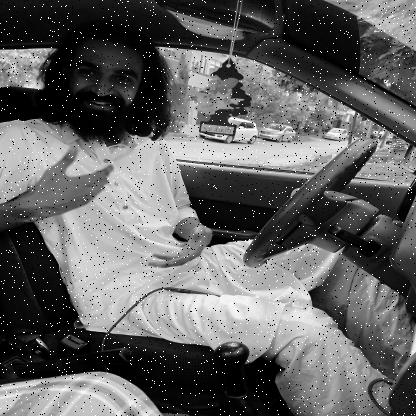no_seatbelt: (50, 16, 184, 262)
